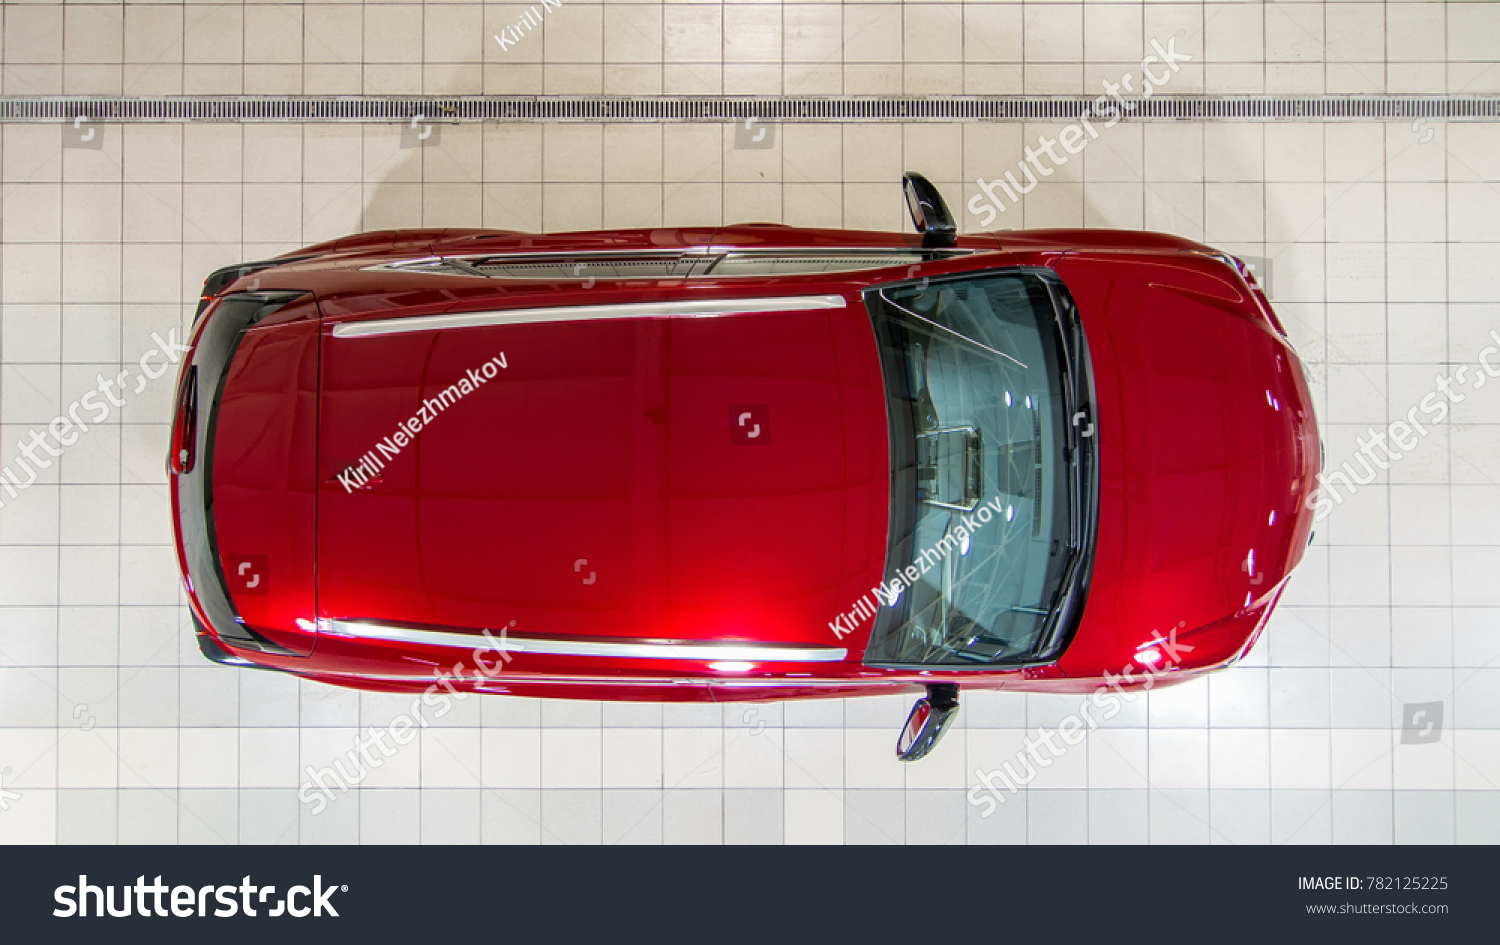Car: (151, 165, 1337, 766)
